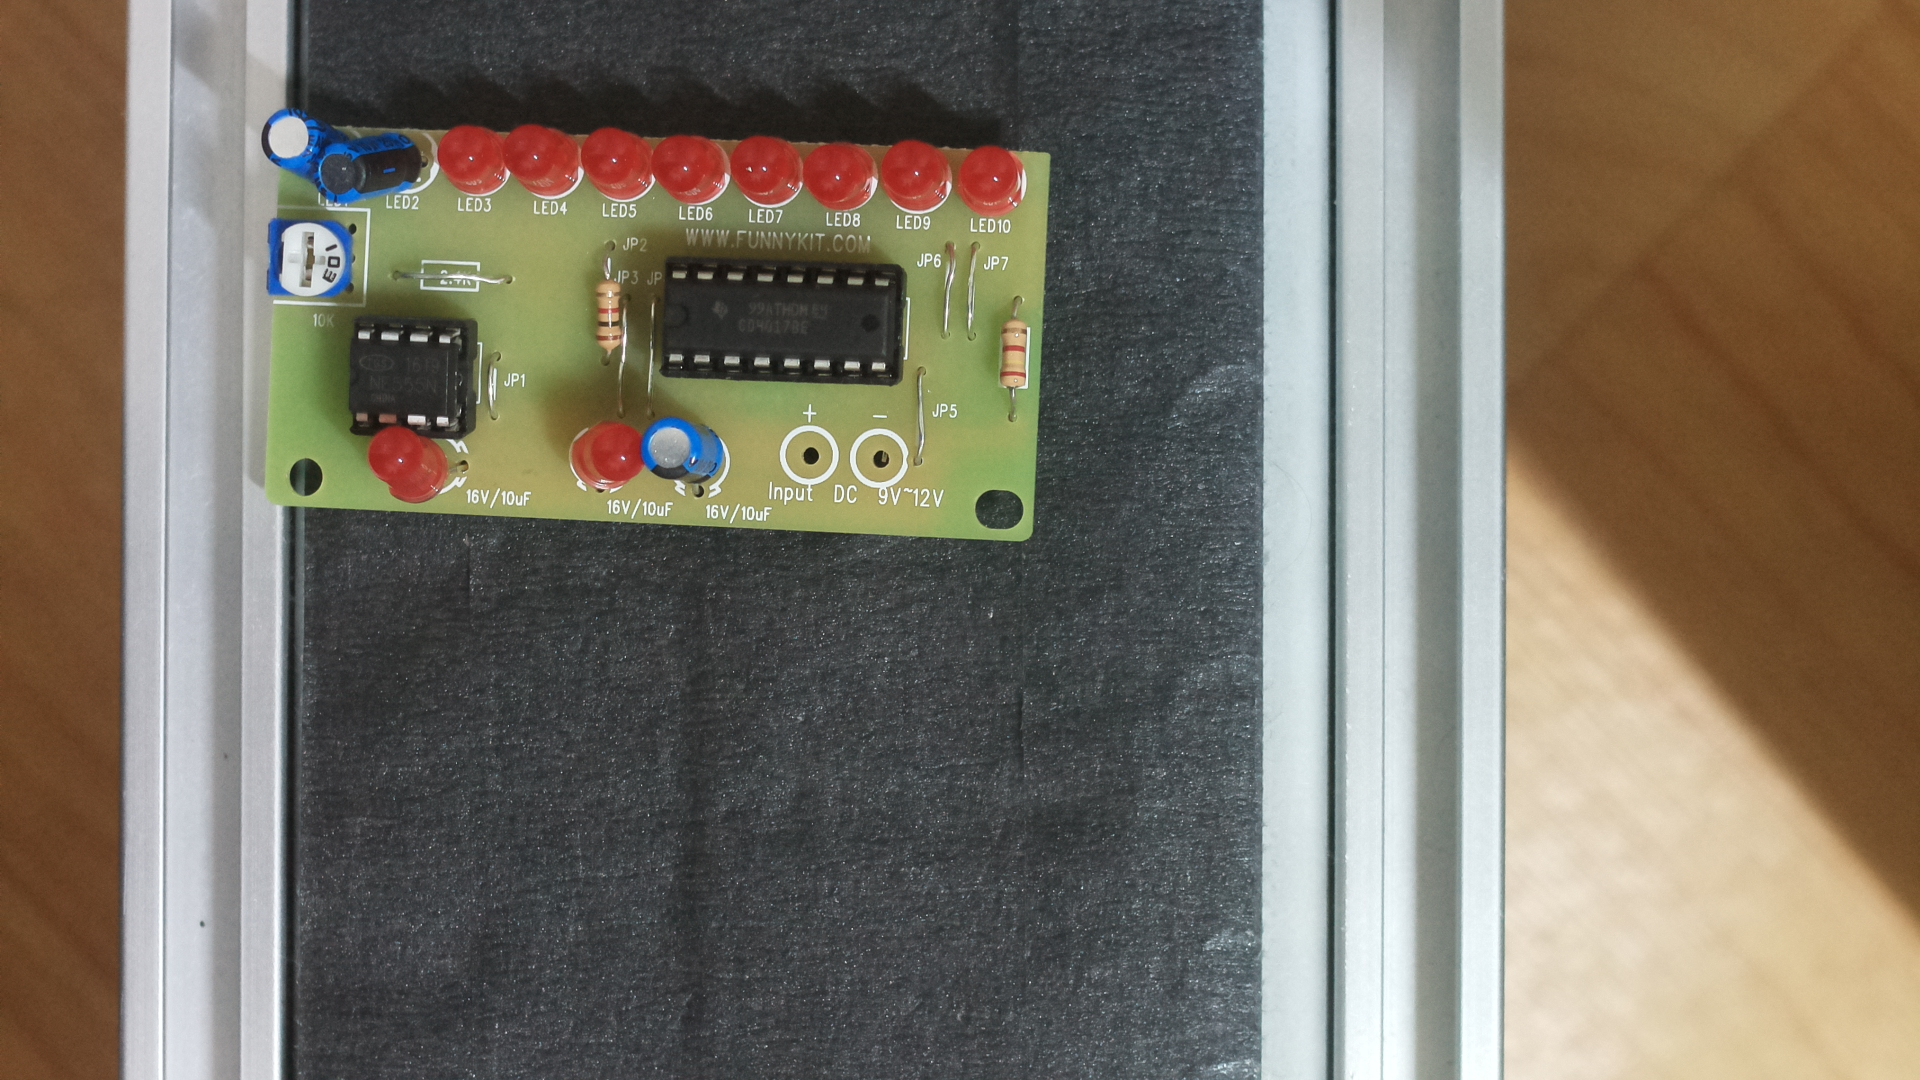B_Misordered: (241, 90, 1065, 549)
